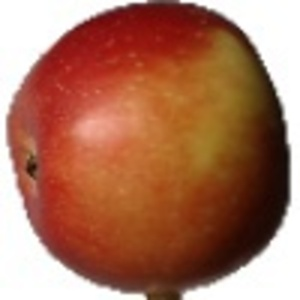maçã braeburn: (3, 3, 292, 291)
